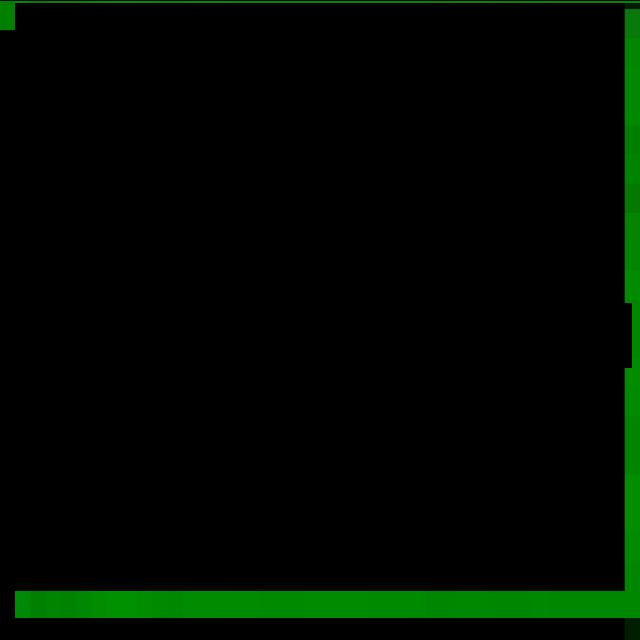nofire: (15, 2, 640, 617)
